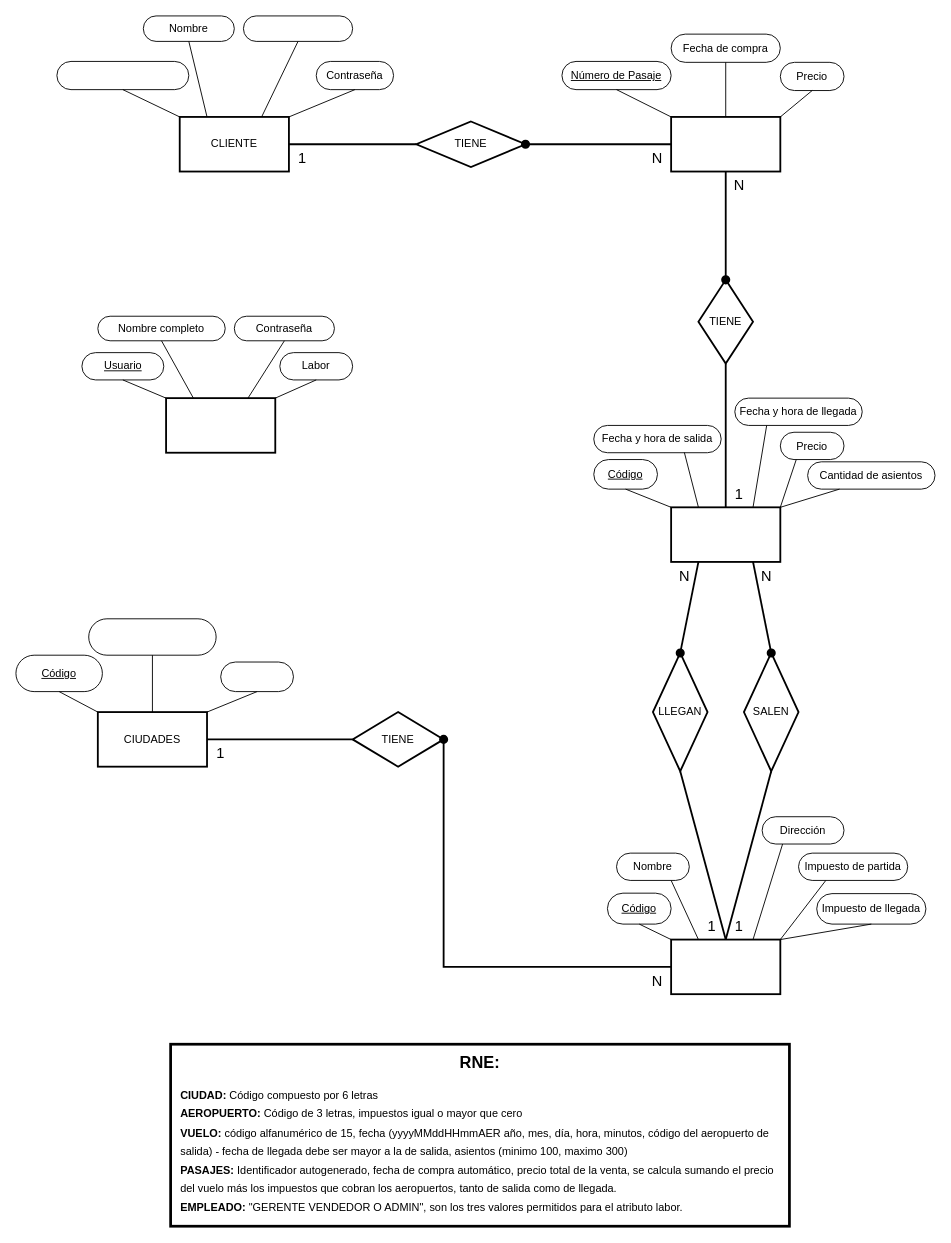
The diagram is 951 pixels wide and 1243 high, and some of its shapes have lost their labels. Each missing label, with the box of its shape:
AEROPUERTO: (670, 938, 781, 995)
EMPLEADO: (165, 397, 276, 453)
Nombre de la ciudad: (88, 618, 216, 655)
Número de Pasaporte: (56, 61, 189, 90)
Número de Tarjeta: (243, 15, 353, 41)
PASAJE: (670, 116, 781, 172)
País: (220, 661, 293, 692)
VUELO: (670, 506, 781, 562)
